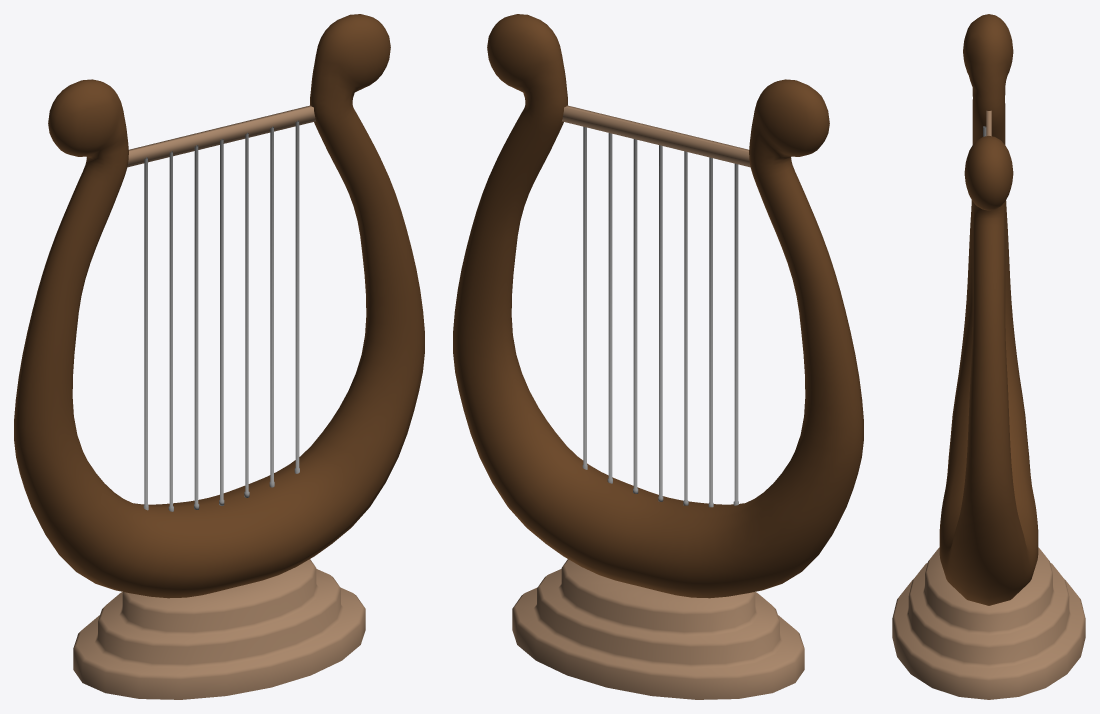
Rendered from Lyra.fbx.
The picture shows the model from 3 angles, left to right: view 1: azimuth 30°, elevation 25°; view 2: azimuth 150°, elevation 25°; view 3: azimuth 270°, elevation 25°; orthographic projection. The views are drawn at different scales.
Parts seen in each view (by area): view 1: Lyra.016; view 2: Lyra.016; view 3: Lyra.016.
Boxes of the visible parts, bbox=[...] form: Lyra.016: bbox=[14, 14, 424, 699]; Lyra.016: bbox=[453, 14, 863, 699]; Lyra.016: bbox=[892, 14, 1085, 699].
Size of the model in its own units: 178 by 251 by 78.74.
